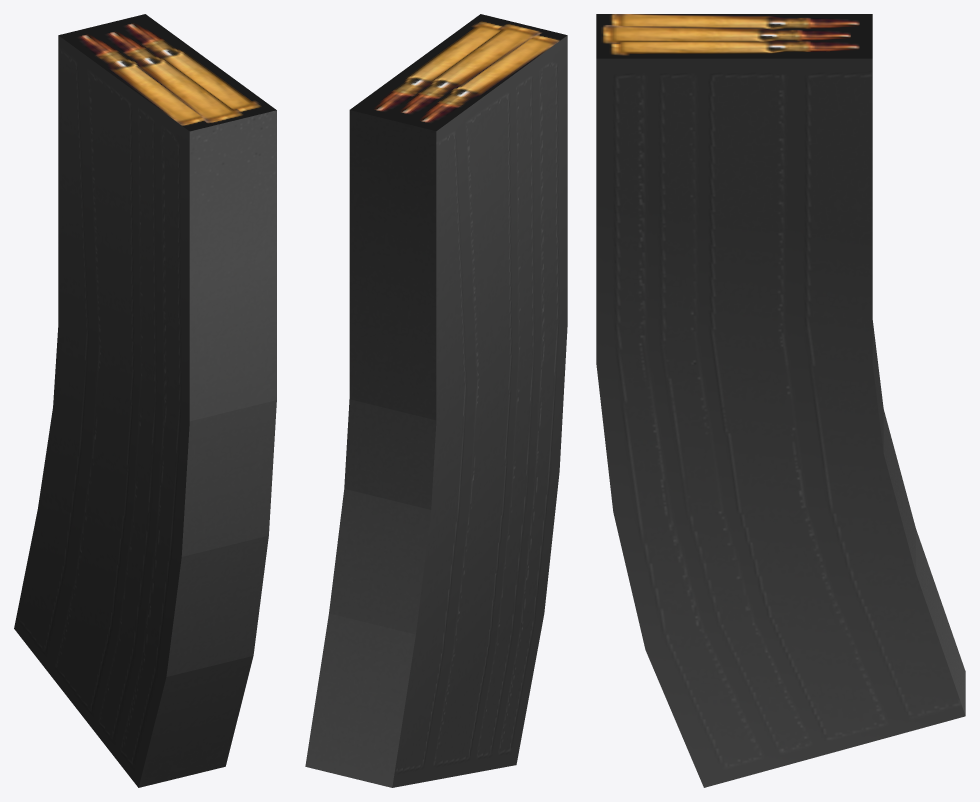
The model's file is mag_curved_2.glb.
3 renders of one model, left to right at view 1: azimuth 30°, elevation 25°; view 2: azimuth 150°, elevation 25°; view 3: azimuth 270°, elevation 25°, orthographic. The views are drawn at different scales.
Visible parts, largest first — view 1: M4 Magazine; view 2: M4 Magazine; view 3: M4 Magazine.
Part boxes in pixels (bbox=[...]): M4 Magazine: bbox=[14, 14, 276, 787]; M4 Magazine: bbox=[305, 14, 567, 787]; M4 Magazine: bbox=[596, 14, 965, 787].
Bounding box in the file's own units: 0.06 × 0.4564 × 0.2095.
1 material, 1 textured.
